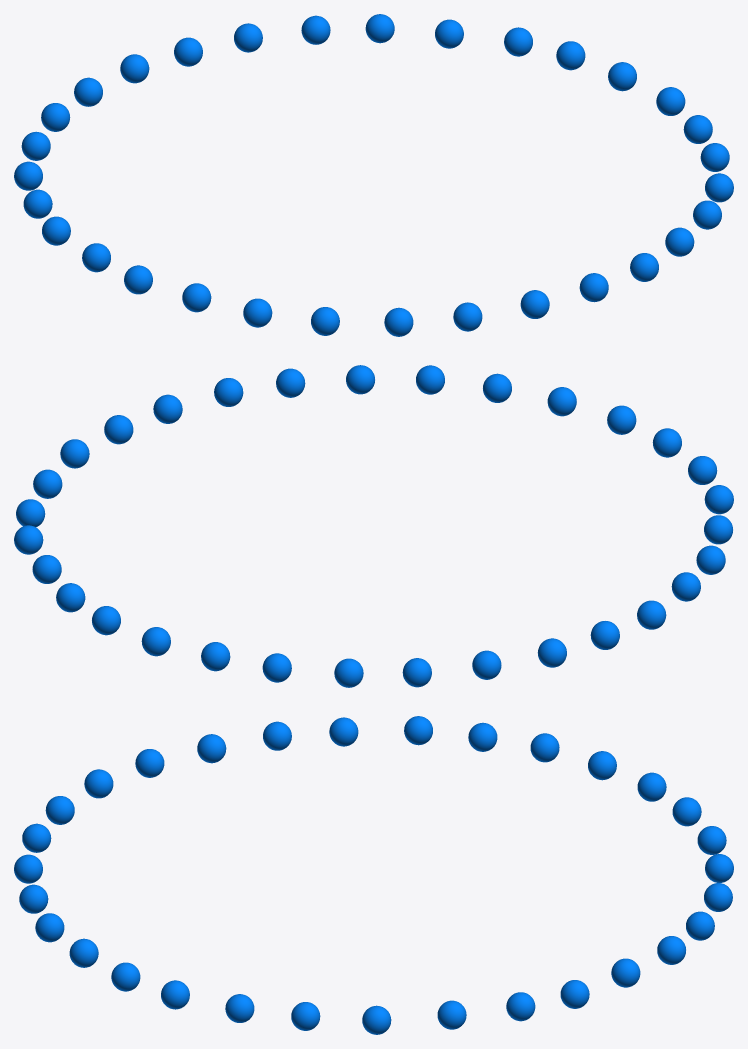
3 renders of one model, top to bottom at view 1: azimuth 30°, elevation 25°; view 2: azimuth 150°, elevation 25°; view 3: azimuth 270°, elevation 25°, orthographic.
Parts seen in each view (by area): view 1: Sphere052; view 2: Sphere052; view 3: Sphere052.
Boxes of the visible parts, box(x1,y1,x2,y2) form: Sphere052: box(14, 14, 733, 336); Sphere052: box(14, 365, 733, 687); Sphere052: box(14, 716, 733, 1034).
Size of the model in its own units: 202 by 8.22 by 203.
